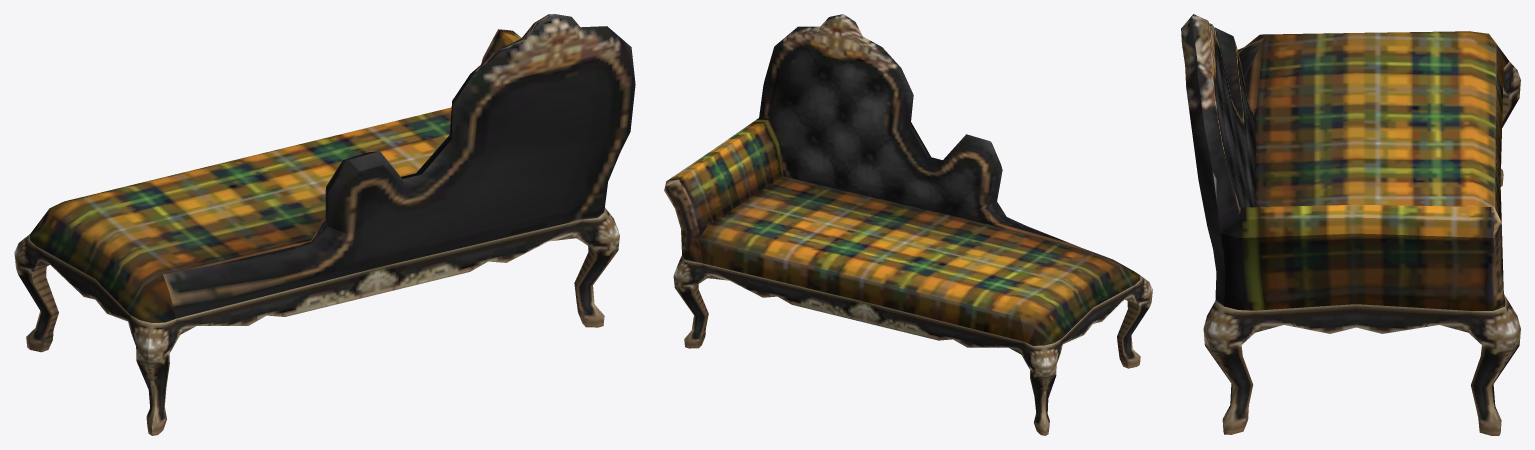
The model's file is furni_0200309_03.FBX.
3 views of the same model, side by side, from view 1: azimuth 30°, elevation 25°; view 2: azimuth 150°, elevation 25°; view 3: azimuth 270°, elevation 25° (orthographic). The views are drawn at different scales.
Parts seen in each view (by area): view 1: furni_0200309_03; view 2: furni_0200309_03; view 3: furni_0200309_03.
Part boxes in pixels (box(x1,y1,x2,y2)): furni_0200309_03: box(14, 14, 635, 435); furni_0200309_03: box(664, 14, 1152, 435); furni_0200309_03: box(1181, 14, 1520, 435).
Bounding box in the file's own units: 159 × 103 × 82.54.
